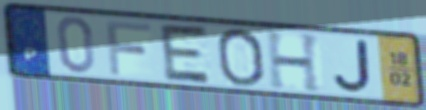0: (54, 15, 97, 76)
E: (158, 21, 215, 86)
F: (103, 18, 154, 77)
H: (263, 30, 324, 95)
J: (331, 39, 374, 94)
O: (214, 27, 267, 88)
